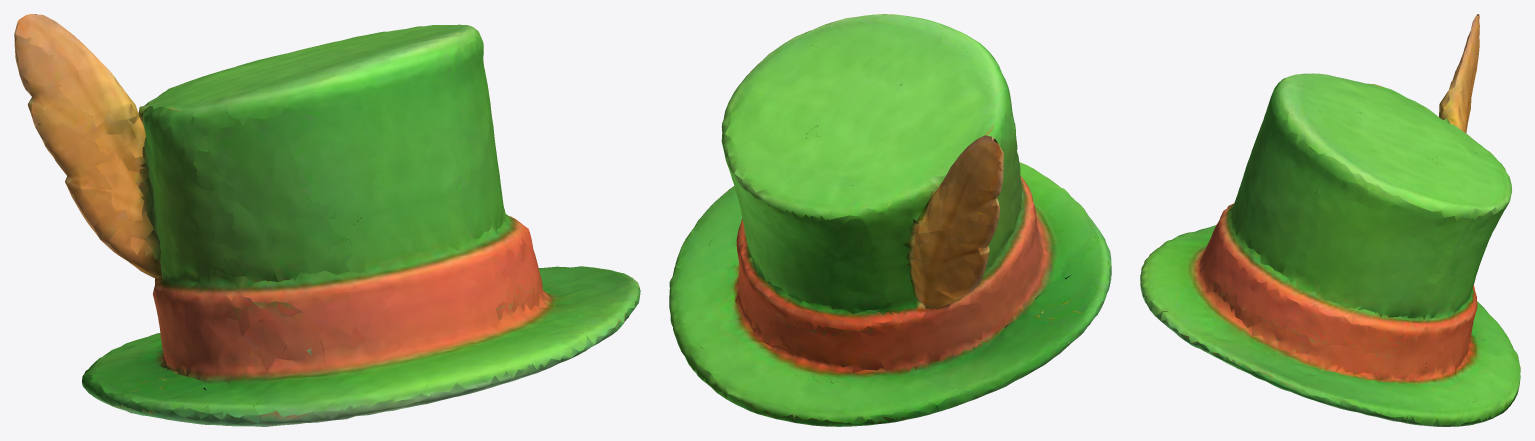
The model's file is hat_b.glb.
The picture shows the model from 3 angles, left to right: view 1: azimuth 30°, elevation 25°; view 2: azimuth 150°, elevation 25°; view 3: azimuth 270°, elevation 25°; orthographic projection. The views are drawn at different scales.
Parts seen in each view (by area): view 1: world; view 2: world; view 3: world.
Boxes of the visible parts, x1,y1,x2,y2 form: world: [14, 14, 640, 426]; world: [669, 14, 1111, 426]; world: [1140, 14, 1520, 426].
Bounding box in the file's own units: 0.9026 × 0.6922 × 0.8297.
Materials: 1 (1 with a texture image).
